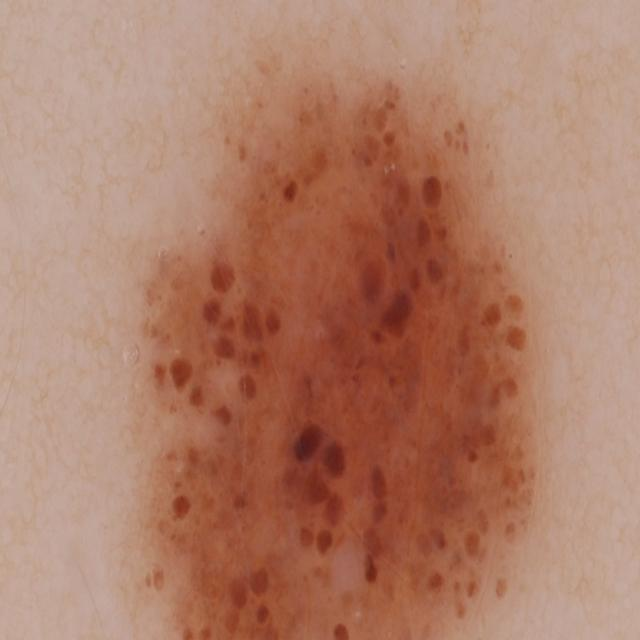Melanoma: (112, 70, 587, 640)
